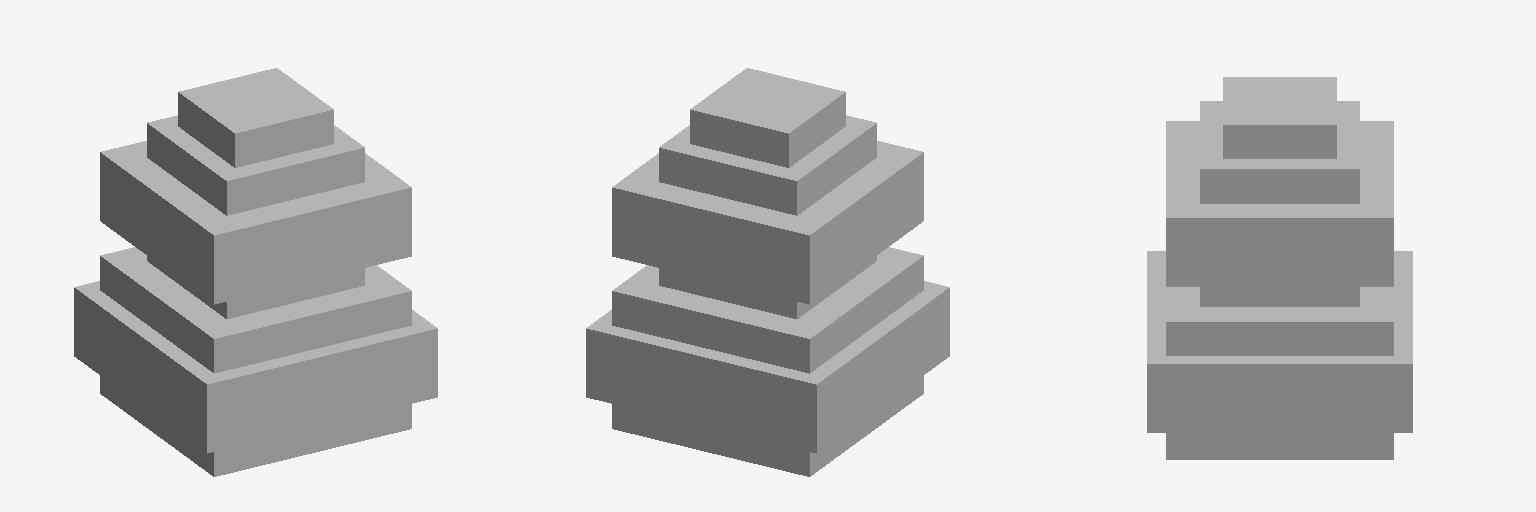
Rendered from connector_mv_cable_io.obj.
The picture shows the model from 3 angles: view 1: azimuth 30°, elevation 25°; view 2: azimuth 150°, elevation 25°; view 3: azimuth 270°, elevation 25°; orthographic projection.
Visible parts, largest first — view 1: connector, cube; view 2: connector, cube; view 3: connector, cube.
Boxes of the visible parts, <box> form: connector: <box>100,68,411,476</box>; cube: <box>74,281,437,453</box>; connector: <box>612,68,923,476</box>; cube: <box>586,281,949,453</box>; connector: <box>1166,77,1393,459</box>; cube: <box>1147,251,1412,432</box>.
Size of the model in its own units: 0.4375 by 0.5625 by 0.4375.